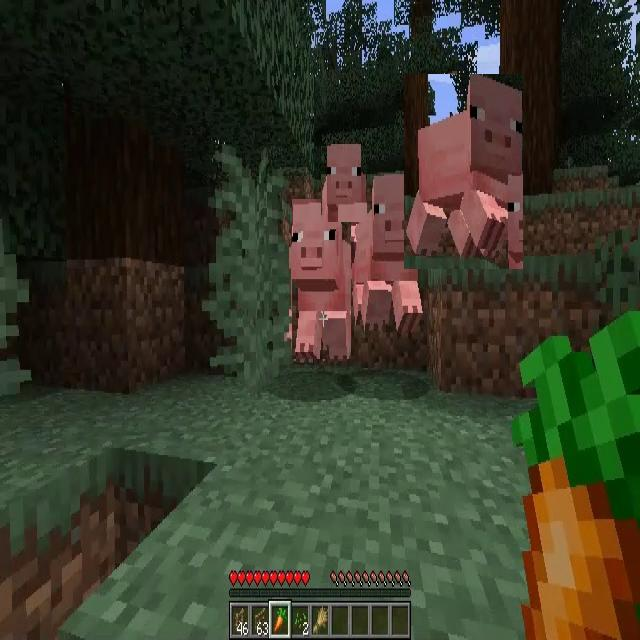pig: (404, 74, 523, 269), (351, 178, 422, 327), (292, 199, 351, 359), (321, 146, 367, 222)
